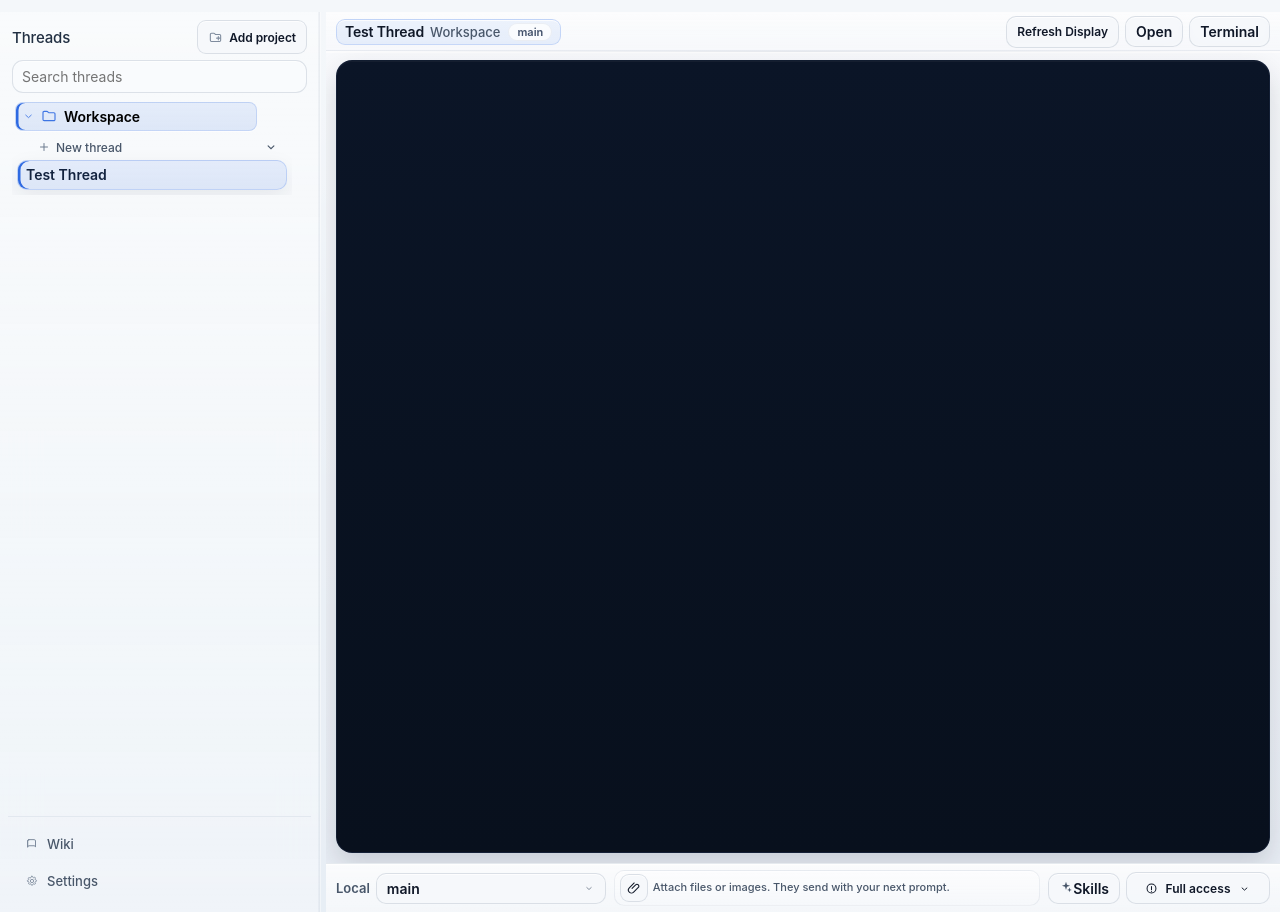
Test case: "Refresh Display" button › wiki button opens the wiki link
Check: the button "Test Thread" is shown, box [17,160,259,190]
Click the button "Wiki".
click(32, 844)  # box [14,827,305,861]
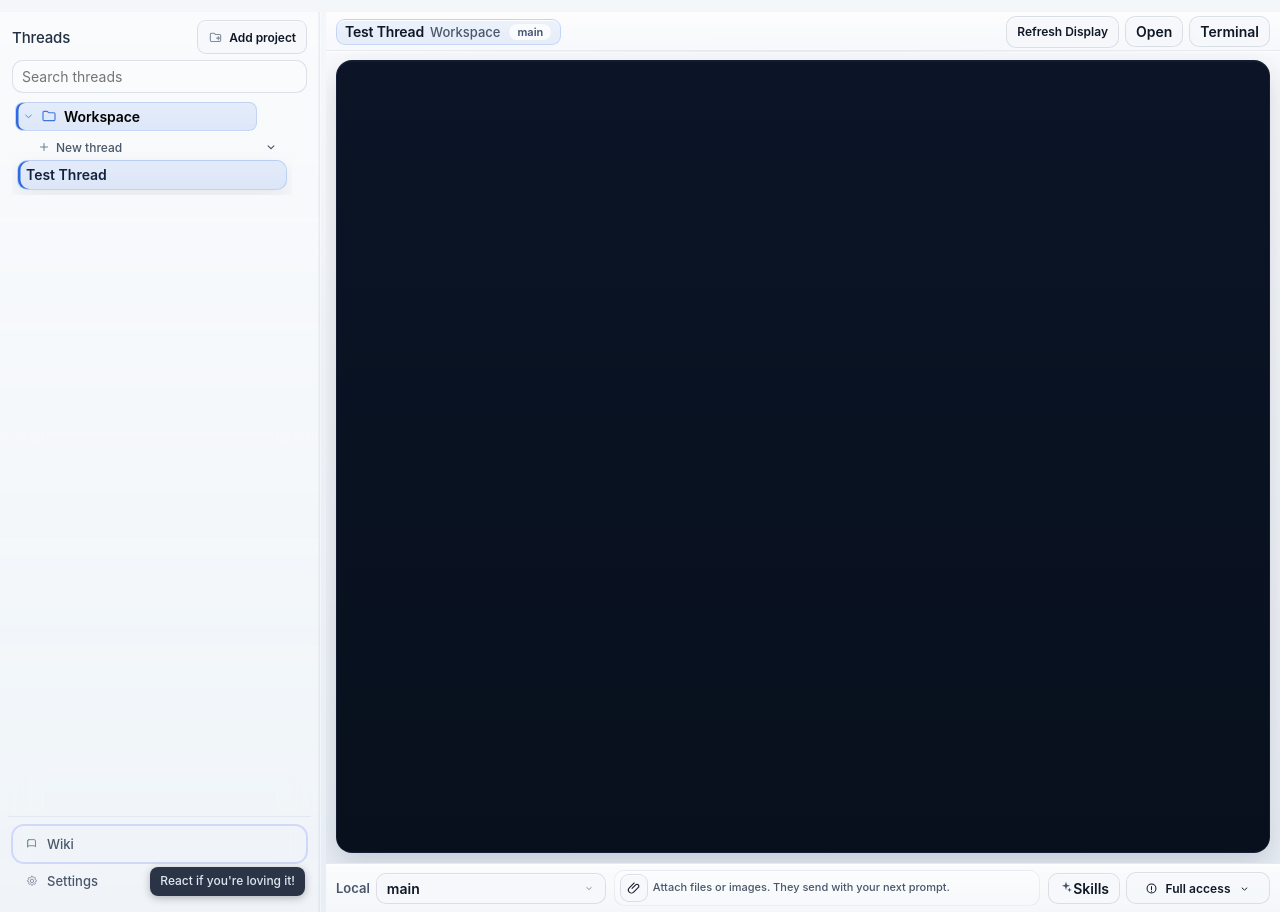
Check: the text "React if you're loving it!" is shown, box [150,867,305,896]
